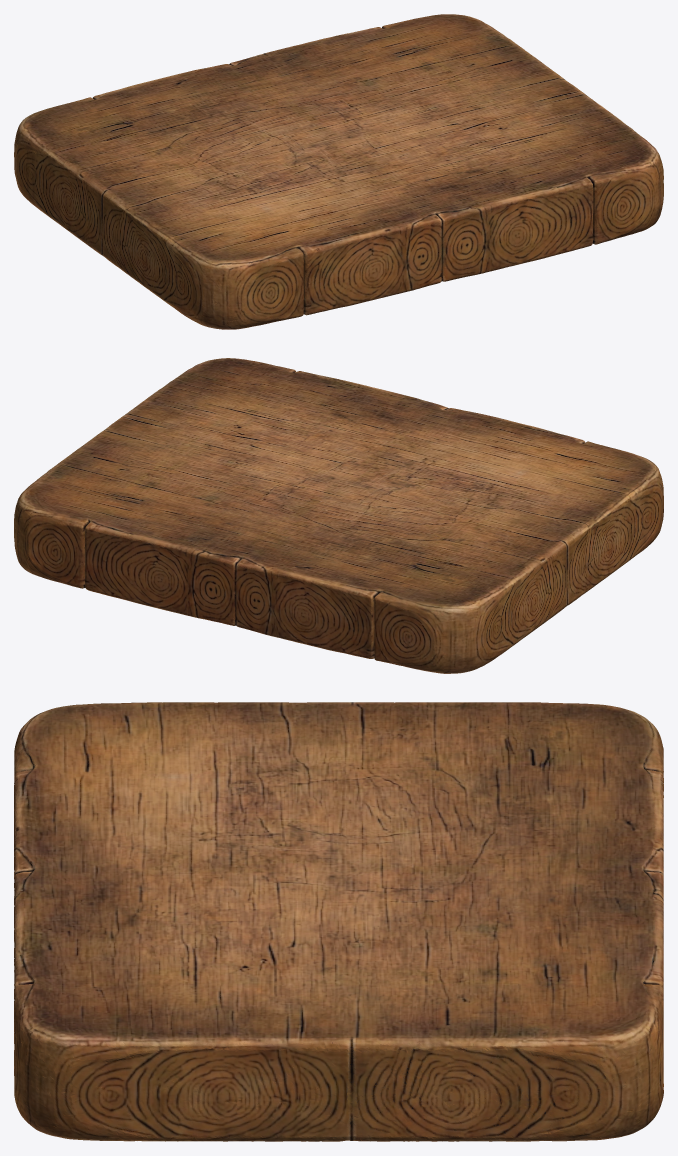
The model's file is cutting-board.glb.
3 views of the same model, one above another, from view 1: azimuth 30°, elevation 25°; view 2: azimuth 150°, elevation 25°; view 3: azimuth 270°, elevation 25° (orthographic). The views are drawn at different scales.
Size of the model in its own units: 1 by 0.139 by 0.7956.
Materials: 1 (1 with a texture image).
